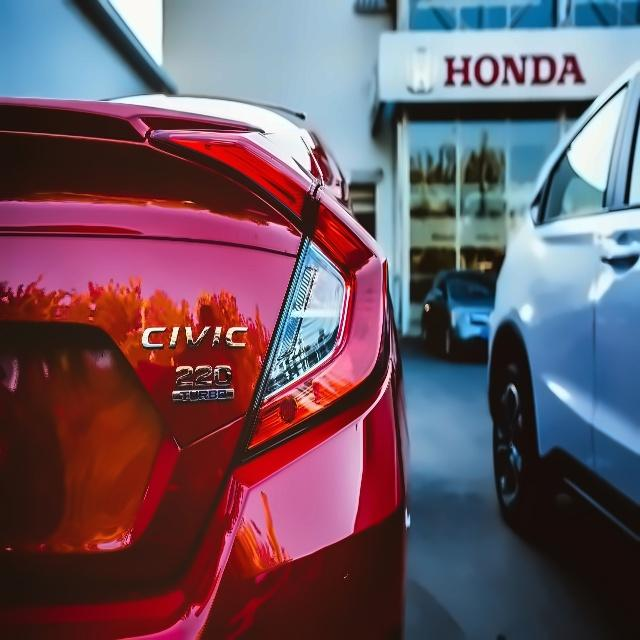Car boot: (0, 86, 319, 611)
Rear bumper: (0, 293, 457, 640)
Rear light - -R-: (140, 110, 403, 468)
